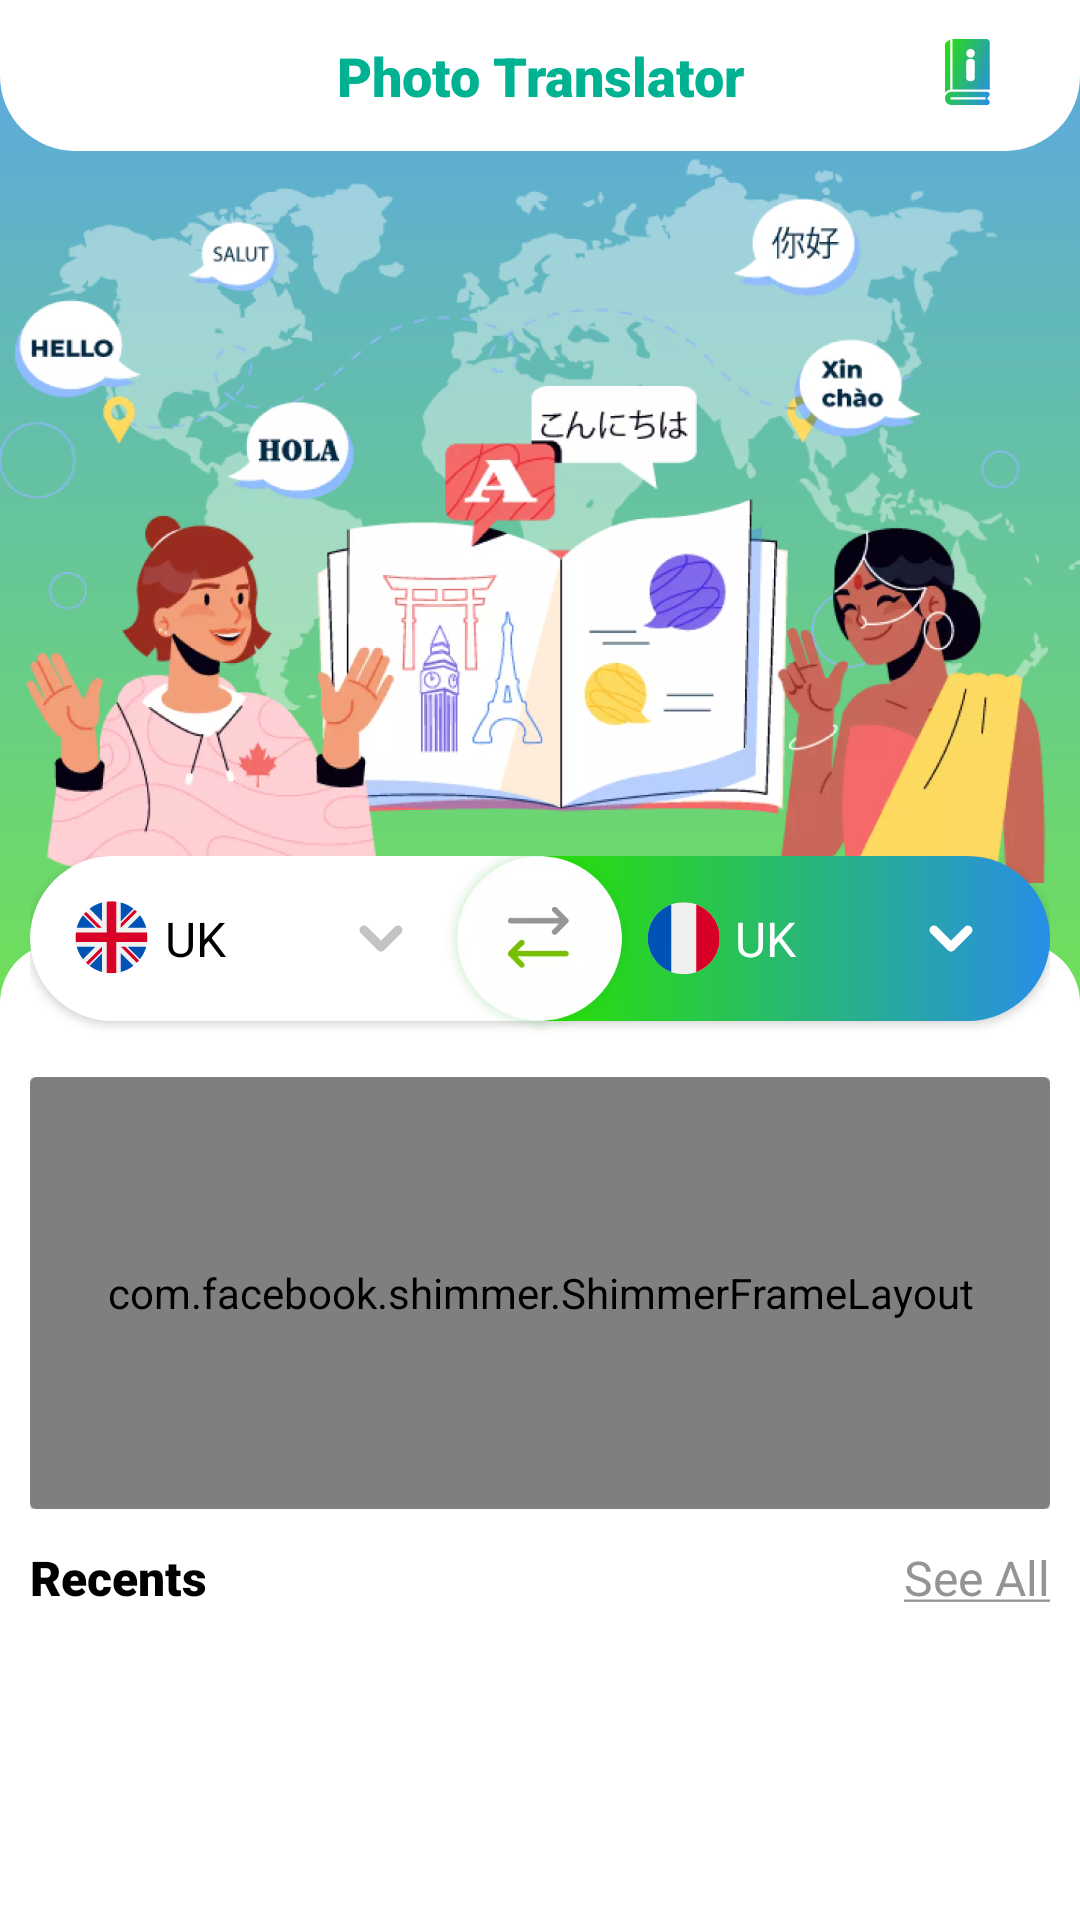

Point at icon controls on the screen. Image size 1080x1920, points as (x=x, y=y).
about home: (x=967, y=72)
france: (x=682, y=938)
translate: (x=539, y=946)
united kingdom: (x=111, y=937)
